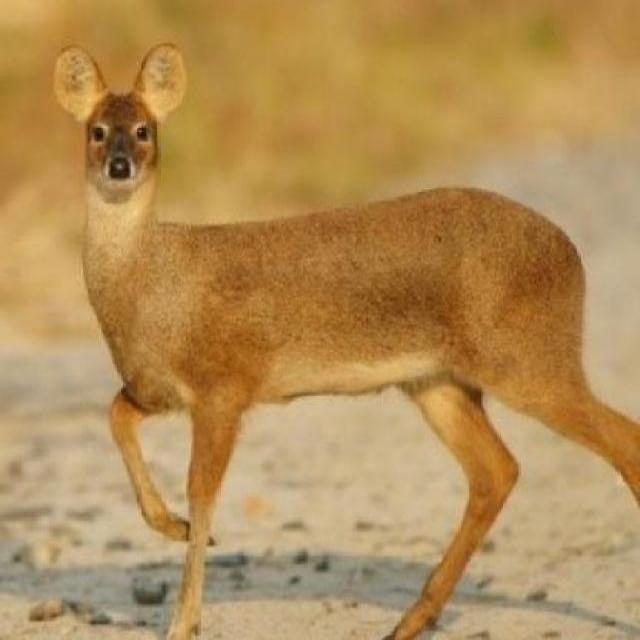deer: (49, 36, 638, 639)
